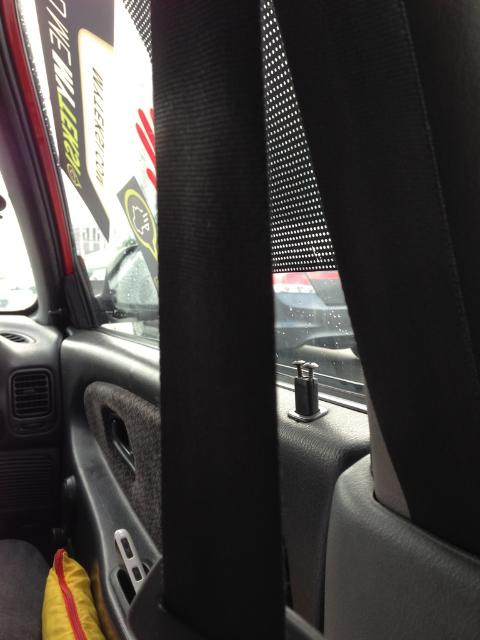Seatbelt: (153, 1, 282, 640)
